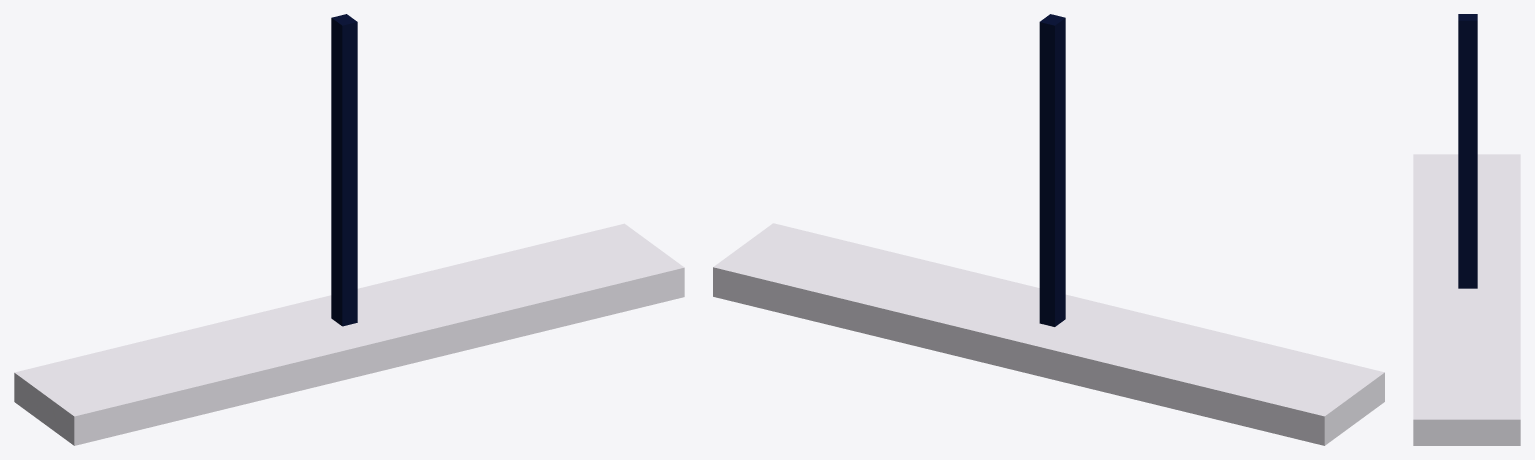
The model's file is ceilling_lights.fbx.
The picture shows the model from 3 angles, left to right: view 1: azimuth 30°, elevation 25°; view 2: azimuth 150°, elevation 25°; view 3: azimuth 270°, elevation 25°; orthographic projection. The views are drawn at different scales.
Visible parts, largest first — view 1: Cube; view 2: Cube; view 3: Cube.
Part boxes in pixels (x1,y1,x2,y2): Cube: (14,14,684,445); Cube: (713,14,1384,445); Cube: (1413,14,1520,445).
Size of the model in its own units: 1557 by 805 by 266.
